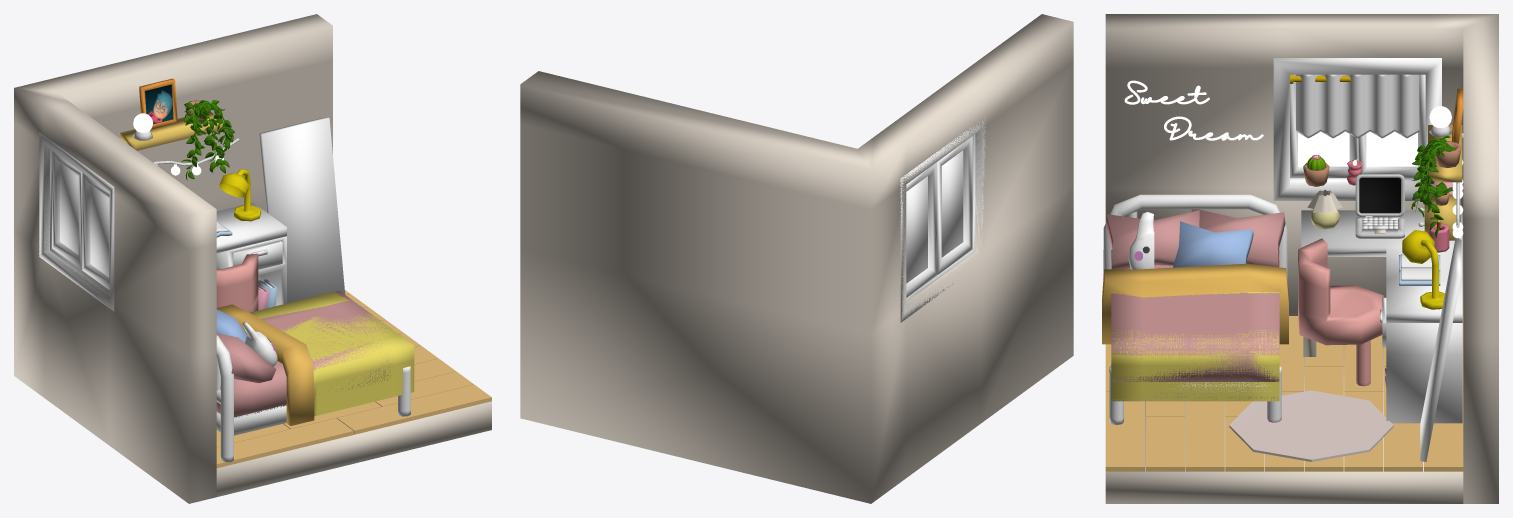
File: Isometric_Bedroom.glb
The picture shows the model from 3 angles, left to right: view 1: azimuth 30°, elevation 25°; view 2: azimuth 150°, elevation 25°; view 3: azimuth 270°, elevation 25°; orthographic projection. The views are drawn at different scales.
Visible parts, largest first — view 1: wall, bed, mirror, wooden tiles, floor, wall.002, window, desk.001, window.002, window.001, wall.003, chair (+8 smaller); view 2: wall, window.001, window.002, window; view 3: wall, wooden tiles, bed, wall.002, desk.001, floor, rug, Plane, window, chair, wall.003, window.002 (+20 smaller).
Part boxes in pixels (bbox=[...]): wall: bbox=[14, 14, 332, 503]; bed: bbox=[216, 292, 414, 425]; mirror: bbox=[259, 117, 345, 303]; wooden tiles: bbox=[216, 290, 491, 468]; floor: bbox=[216, 401, 491, 496]; wall.002: bbox=[216, 290, 401, 417]; window: bbox=[39, 132, 114, 311]; desk.001: bbox=[216, 202, 286, 305]; window.002: bbox=[52, 150, 82, 269]; window.001: bbox=[82, 172, 109, 289]; wall.003: bbox=[216, 335, 410, 462]; chair: bbox=[216, 253, 258, 312]; wall: bbox=[520, 14, 1073, 503]; window.001: bbox=[937, 136, 972, 274]; window.002: bbox=[906, 162, 937, 297]; window: bbox=[900, 120, 985, 322]; wall: bbox=[1105, 14, 1498, 503]; wooden tiles: bbox=[1105, 316, 1463, 471]; bed: bbox=[1102, 263, 1288, 401]; wall.002: bbox=[1111, 250, 1279, 381]; desk.001: bbox=[1301, 210, 1462, 423]; floor: bbox=[1105, 345, 1463, 503]; rug: bbox=[1229, 390, 1393, 461]; Plane: bbox=[1296, 74, 1419, 138]; window: bbox=[1273, 58, 1441, 200]; chair: bbox=[1298, 238, 1383, 345]; wall.003: bbox=[1103, 194, 1287, 424]; window.002: bbox=[1358, 74, 1425, 177].
Size of the model in its own units: 4.79 by 4.35 by 4.83.
40 materials, 1 textured.
